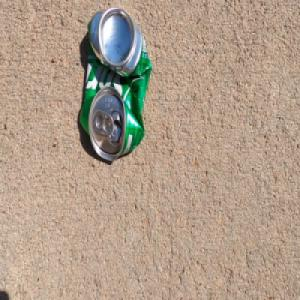SodaCan: (80, 7, 153, 164)
